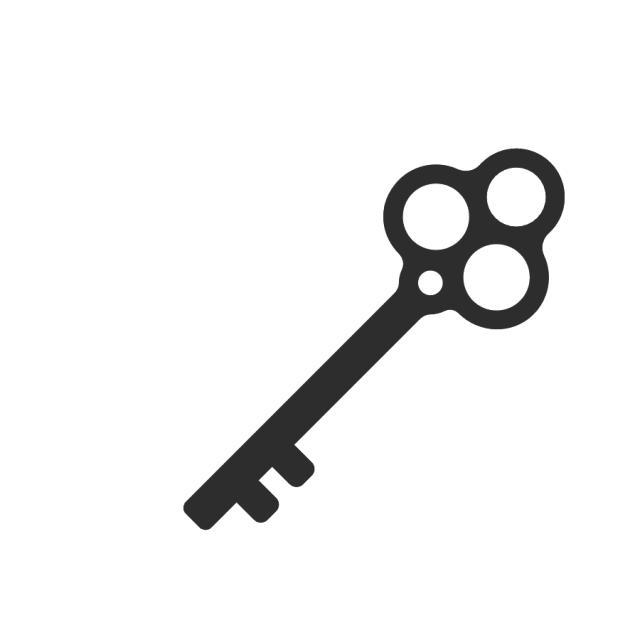key: (176, 146, 573, 543)
